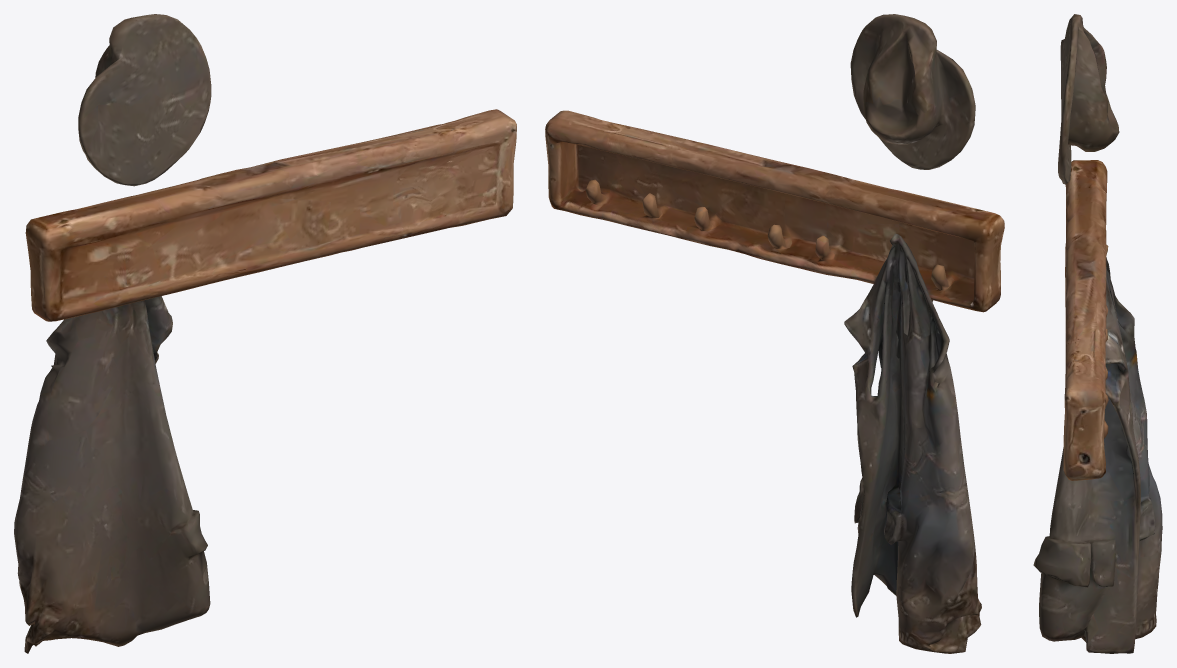
The model's file is de_coatrack.glb.
3 views of the same model, side by side, from view 1: azimuth 30°, elevation 25°; view 2: azimuth 150°, elevation 25°; view 3: azimuth 270°, elevation 25° (orthographic). The views are drawn at different scales.
Parts seen in each view (by area): view 1: tripo_node_857951b5-92f1-437d-ab0e-f1a1fba53fd7; view 2: tripo_node_857951b5-92f1-437d-ab0e-f1a1fba53fd7; view 3: tripo_node_857951b5-92f1-437d-ab0e-f1a1fba53fd7.
Part boxes in pixels (box(x1,y1,x2,y2)): tripo_node_857951b5-92f1-437d-ab0e-f1a1fba53fd7: box(14, 14, 516, 653); tripo_node_857951b5-92f1-437d-ab0e-f1a1fba53fd7: box(545, 14, 1004, 653); tripo_node_857951b5-92f1-437d-ab0e-f1a1fba53fd7: box(1033, 14, 1162, 653).
Bounding box in the file's own units: 0.7837 × 0.9997 × 0.185.
Materials: 1 (1 with a texture image).
